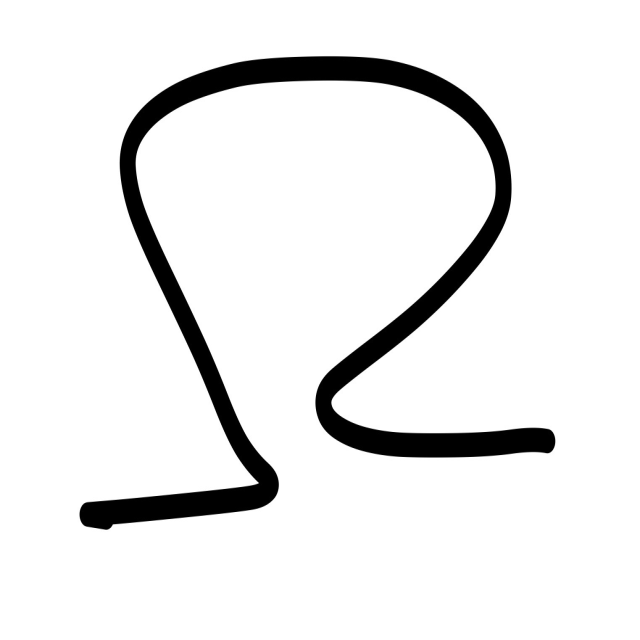ohms: (47, 22, 615, 567)
